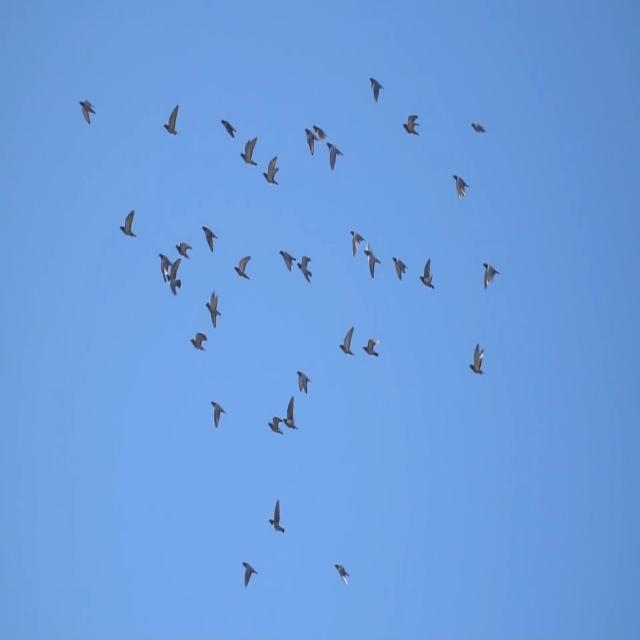bird: (363, 240, 382, 280), (204, 288, 222, 329), (260, 154, 281, 188), (467, 342, 487, 377), (268, 497, 285, 537), (162, 104, 181, 138), (240, 134, 259, 168), (418, 257, 436, 292), (167, 256, 182, 297), (119, 208, 138, 240), (481, 260, 500, 292), (338, 324, 356, 357), (325, 141, 344, 172), (158, 250, 174, 286), (283, 396, 299, 432), (201, 223, 219, 254), (78, 97, 97, 126), (451, 172, 470, 201), (303, 126, 319, 160), (210, 398, 227, 430), (241, 560, 259, 589), (233, 254, 252, 281), (349, 228, 366, 258), (295, 368, 313, 396), (368, 75, 385, 104), (297, 255, 314, 284), (278, 248, 296, 274), (392, 256, 409, 283), (402, 113, 420, 138), (334, 562, 351, 588), (189, 332, 209, 354), (174, 241, 195, 261), (219, 116, 237, 139), (362, 337, 380, 359), (312, 123, 330, 144), (267, 415, 284, 437), (470, 121, 487, 136)
